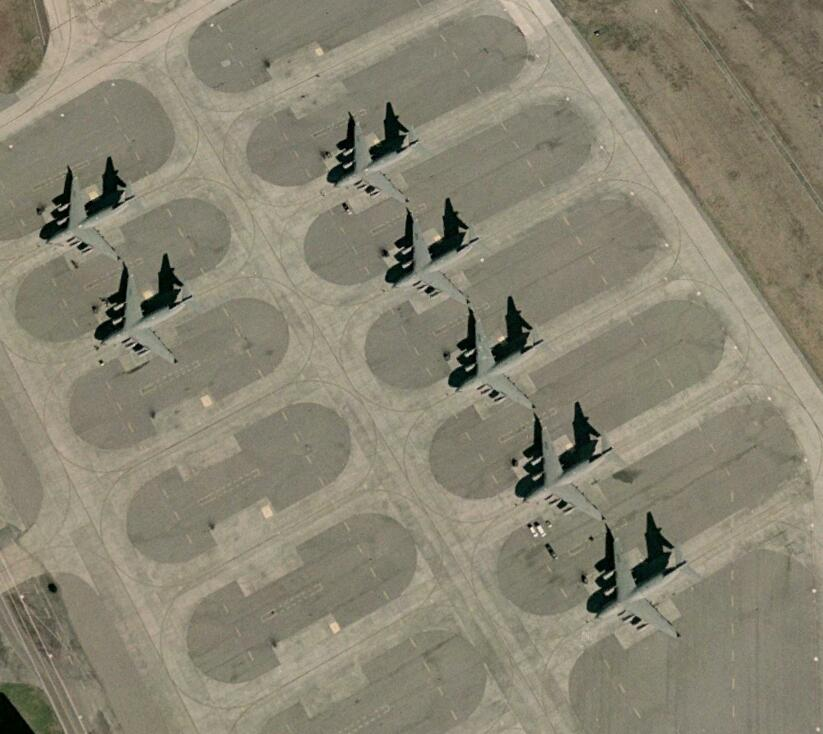A3: (587, 537, 697, 640), (513, 422, 622, 524), (95, 273, 197, 364), (43, 175, 143, 266), (382, 215, 485, 303), (326, 121, 432, 206), (452, 318, 546, 409)
